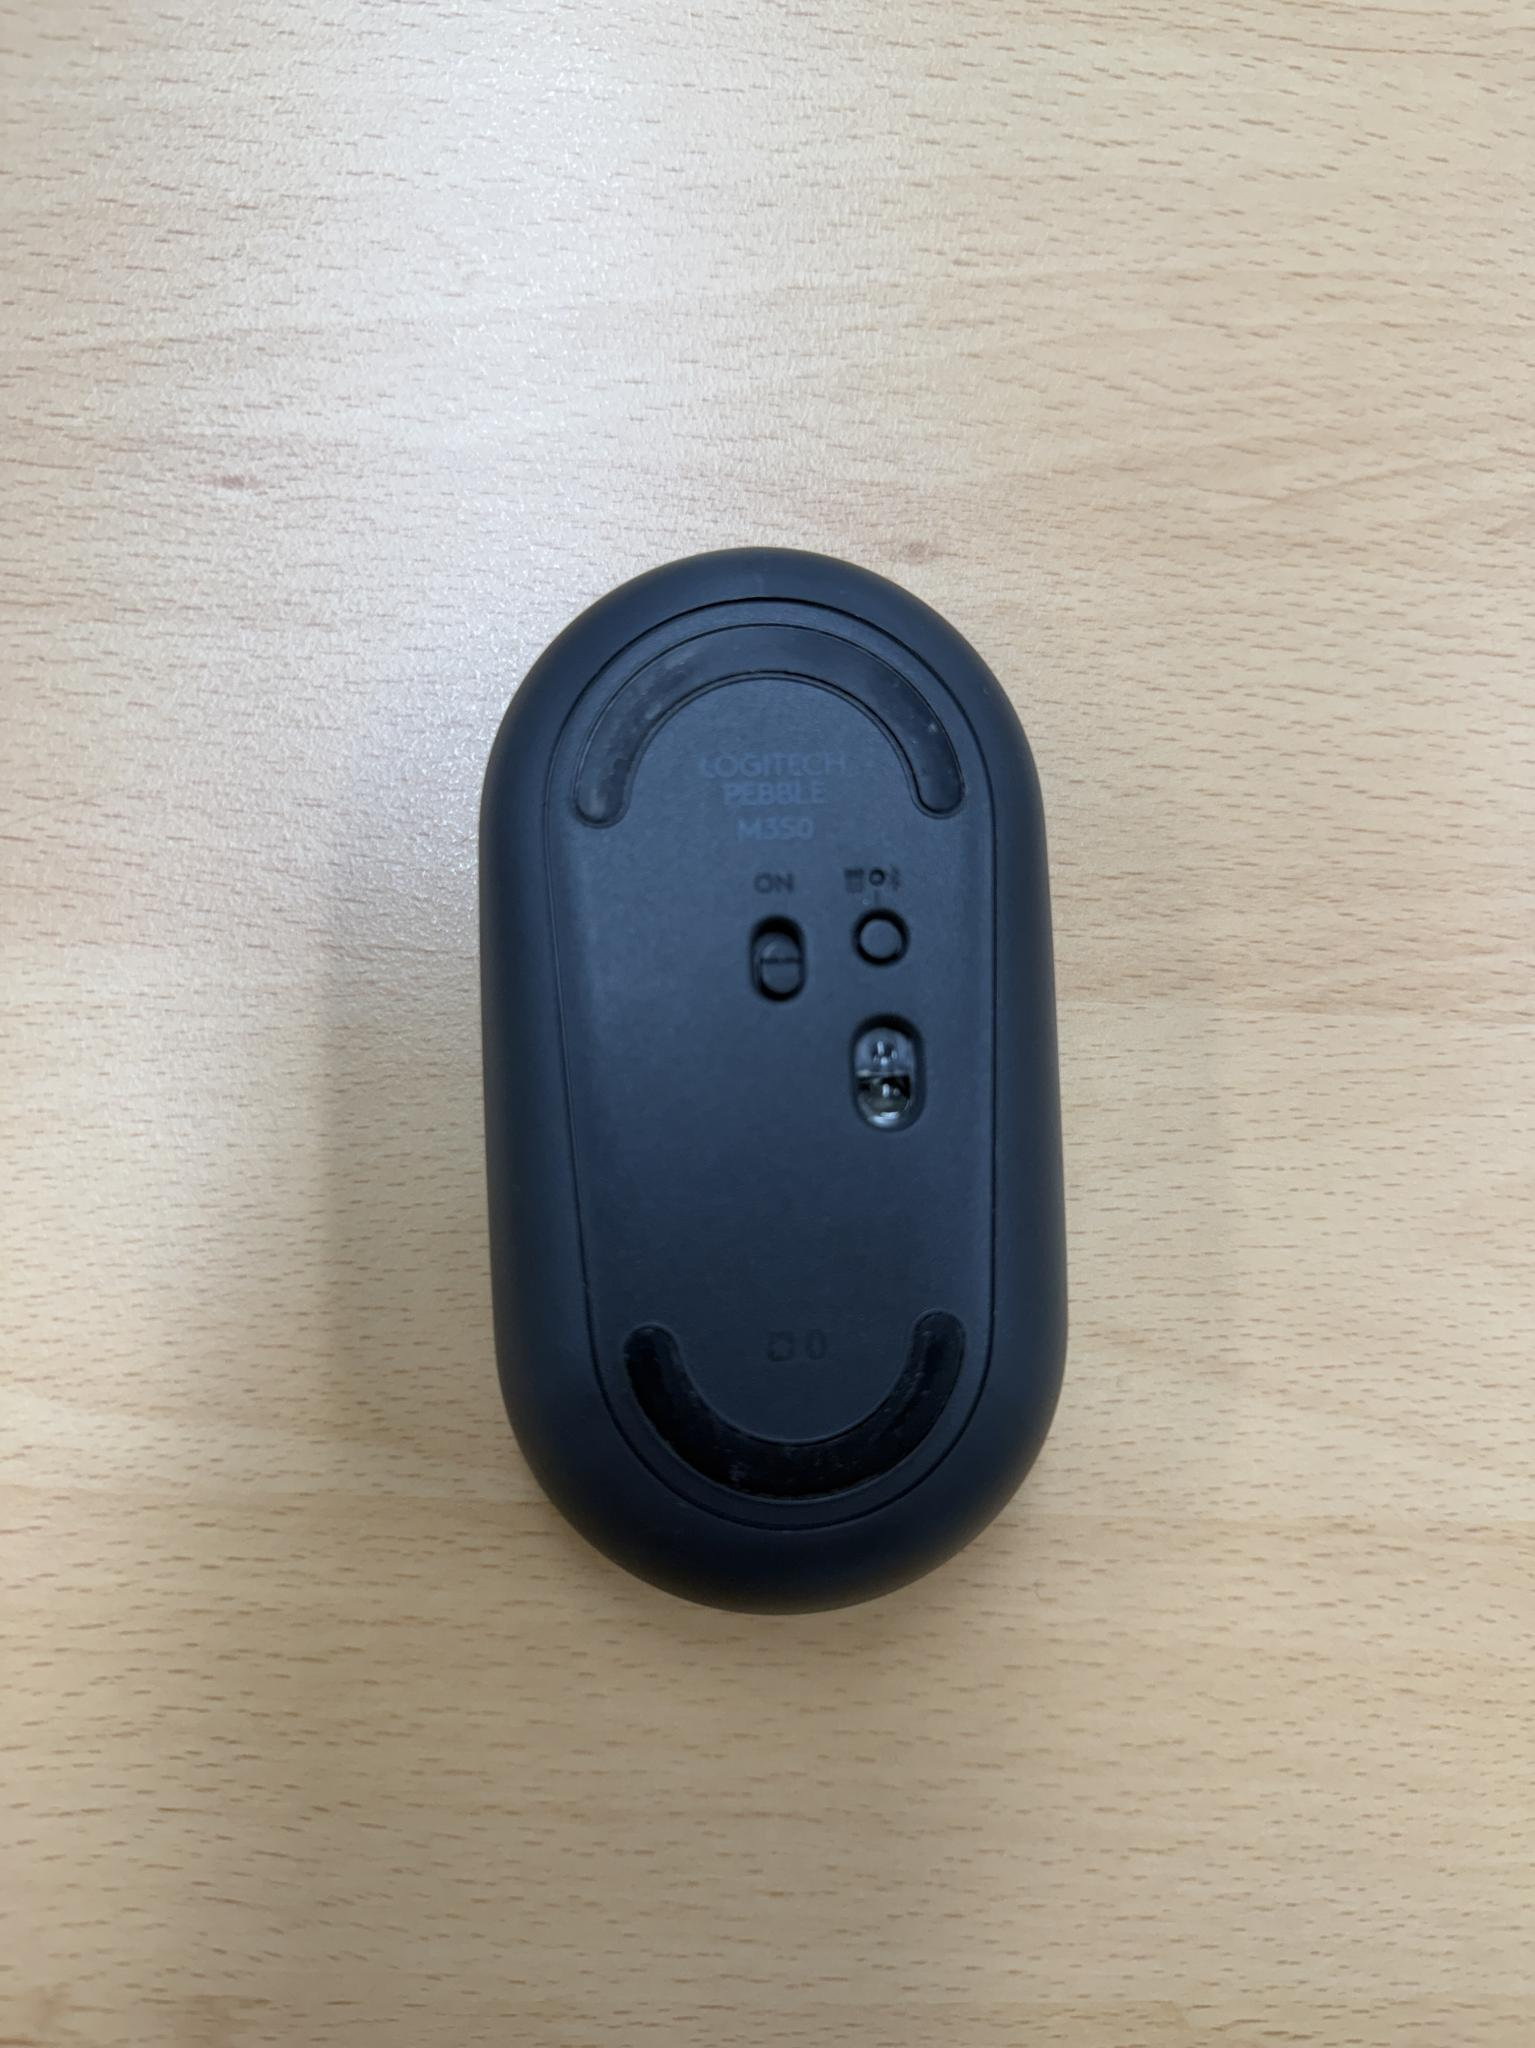back: (469, 542, 1077, 1616)
